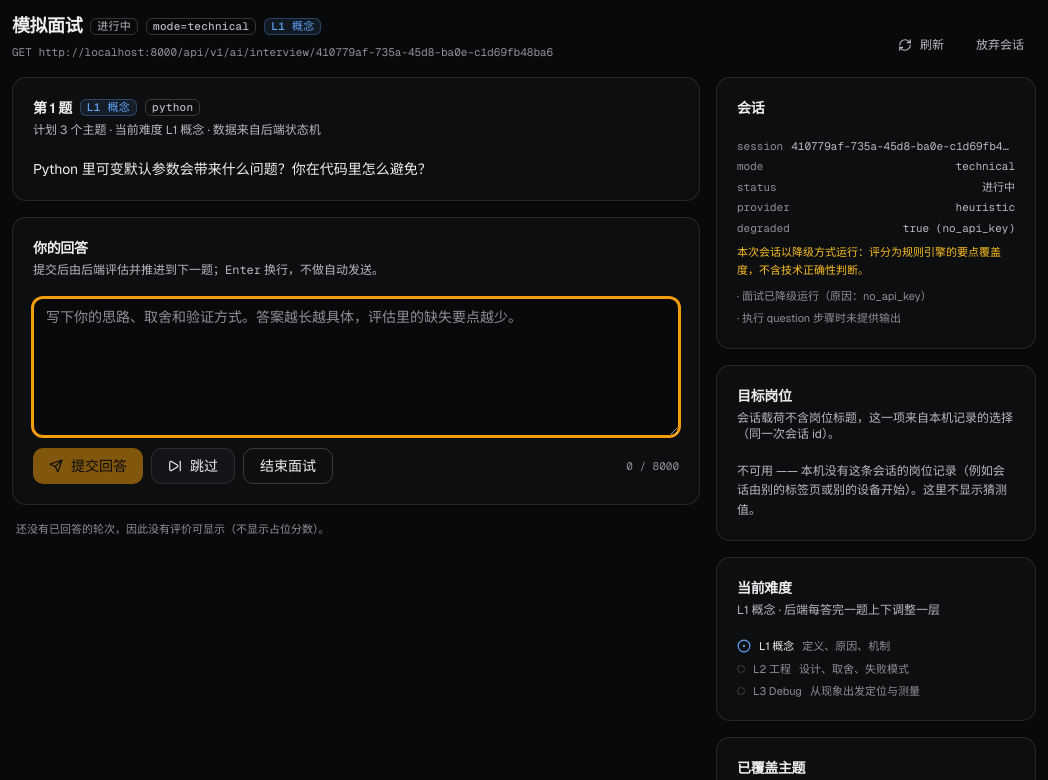
Test: the workspace › says nothing about difficulty when the API reports no change
Check: the text "Python 里可变默认参数会带来什么问题？你在代码里怎么避免？" is shown, box x1=33 y1=160 x2=432 y2=178
Type "我用 None 作为默认值，避免可变对象在多次调用之间被共享。" into the text box named "你的回答" at (356, 367), box x1=33 y1=298 x2=679 y2=436
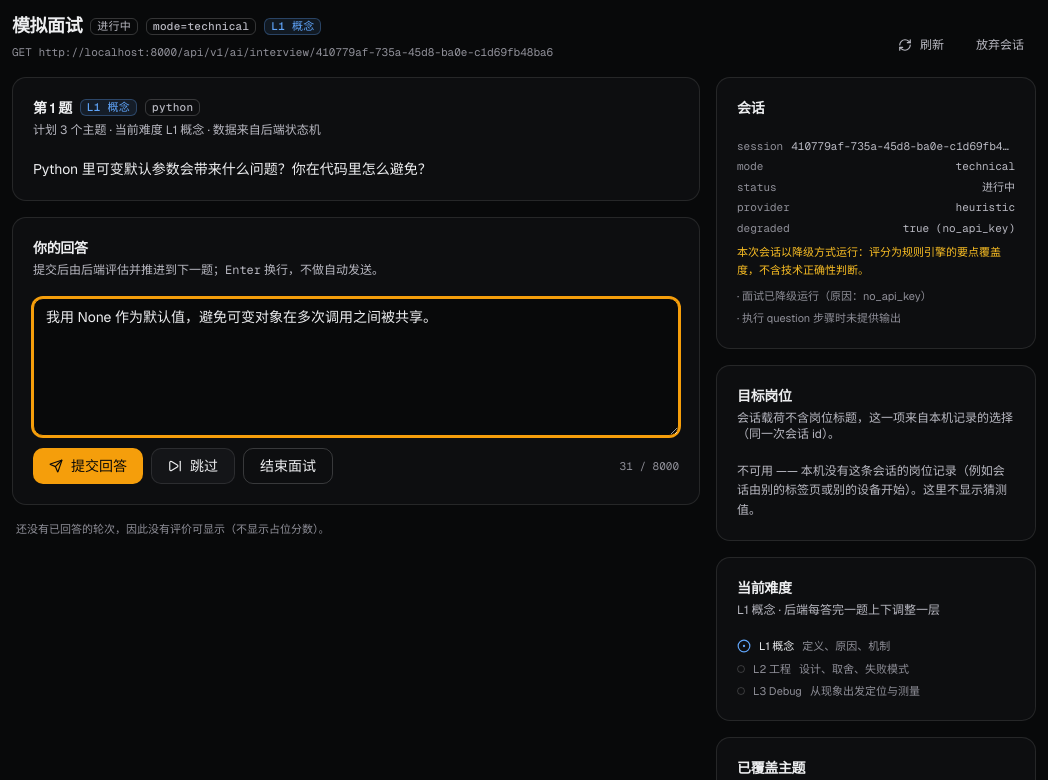
Click the button "提交回答" at (88, 466), box x1=33 y1=448 x2=143 y2=484
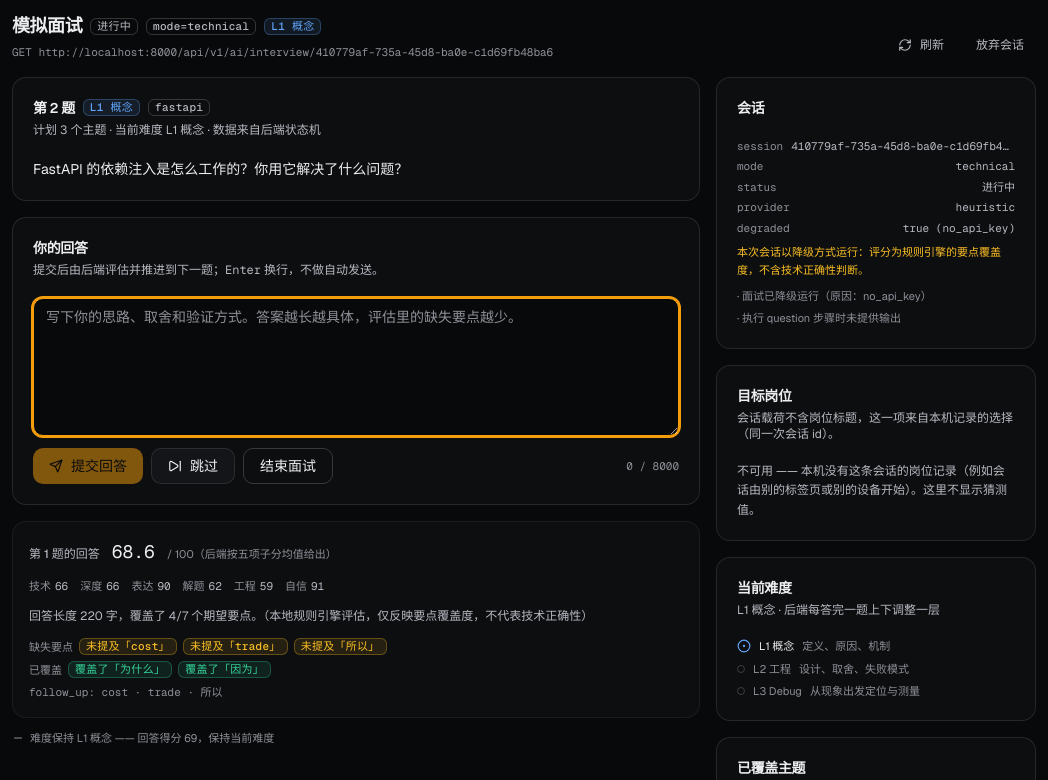
Check: the text "FastAPI 的依赖注入是怎么工作的？你用它解决了什么问题？" is shown, box x1=33 y1=160 x2=408 y2=178
Check: the text "难度保持 L1 概念 —— 回答得分 69，保持当前难度" is shown, box x1=12 y1=731 x2=274 y2=745
